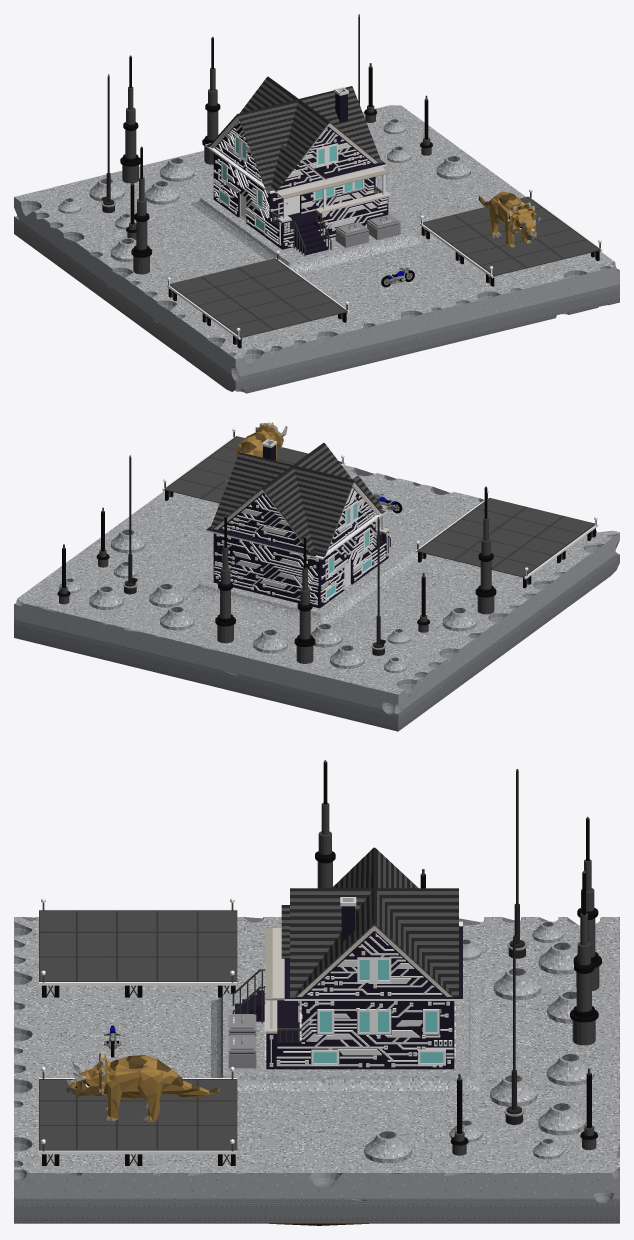
3 views of the same model, one above another, from view 1: azimuth 30°, elevation 25°; view 2: azimuth 150°, elevation 25°; view 3: azimuth 270°, elevation 25° (orthographic). The views are drawn at different scales.
Visible parts, largest first — view 1: Cube.027, Cube.918, Cube.025, Cube.026, Cube.028, ANIMAL_Triceratops, Cylinder.021, Cylinder.020, Cylinder.017, Cube.029, Cube.030, Cylinder.026 (+4 smaller); view 2: Cube.027, Cube.918, Cube.025, Cube.028, Cube.026, Cylinder.021, Cylinder.020, Cylinder.017, ANIMAL_Triceratops, Cylinder.029, Cylinder.030, Cylinder.027 (+7 smaller); view 3: Cube.027, Cube.918, Cube.025, Cube.026, Cube.028, ANIMAL_Triceratops, Cylinder.017, Cylinder.021, Cylinder.020, Cylinder.031, Cylinder.033, Cylinder.029 (+9 smaller).
Part boxes in pixels (bbox=[...]): Cube.027: bbox=[14, 105, 619, 393]; Cube.918: bbox=[205, 76, 391, 256]; Cube.025: bbox=[166, 250, 349, 348]; Cube.026: bbox=[419, 189, 602, 286]; Cube.028: bbox=[191, 194, 423, 273]; ANIMAL_Triceratops: bbox=[478, 191, 540, 247]; Cylinder.021: bbox=[131, 146, 151, 274]; Cylinder.020: bbox=[120, 55, 140, 183]; Cylinder.017: bbox=[202, 36, 220, 164]; Cube.029: bbox=[335, 222, 368, 247]; Cube.030: bbox=[367, 214, 400, 240]; Cylinder.026: bbox=[144, 180, 179, 204]; Cube.027: bbox=[14, 465, 619, 731]; Cube.918: bbox=[206, 439, 390, 608]; Cube.025: bbox=[415, 490, 598, 588]; Cube.028: bbox=[189, 543, 417, 624]; Cube.026: bbox=[162, 428, 345, 503]; Cylinder.021: bbox=[475, 486, 496, 614]; Cylinder.020: bbox=[294, 536, 315, 663]; Cylinder.017: bbox=[215, 515, 235, 643]; ANIMAL_Triceratops: bbox=[225, 422, 287, 482]; Cylinder.029: bbox=[160, 606, 194, 630]; Cylinder.030: bbox=[149, 583, 183, 607]; Cylinder.027: bbox=[253, 629, 287, 653]; Cube.027: bbox=[14, 917, 619, 1223]; Cube.918: bbox=[232, 847, 462, 1069]; Cube.025: bbox=[39, 898, 237, 997]; Cube.026: bbox=[39, 1066, 237, 1165]; Cube.028: bbox=[211, 993, 480, 1090]; ANIMAL_Triceratops: bbox=[65, 1051, 219, 1122]; Cylinder.017: bbox=[570, 870, 598, 1045]; Cylinder.021: bbox=[315, 760, 335, 888]; Cylinder.020: bbox=[573, 816, 601, 990]; Cylinder.031: bbox=[538, 1102, 585, 1135]; Cylinder.033: bbox=[364, 1130, 411, 1163]; Cylinder.029: bbox=[546, 1053, 594, 1085].
Size of the model in its own units: 4000 by 1865 by 4000.
Materials: 35 (4 with a texture image).
